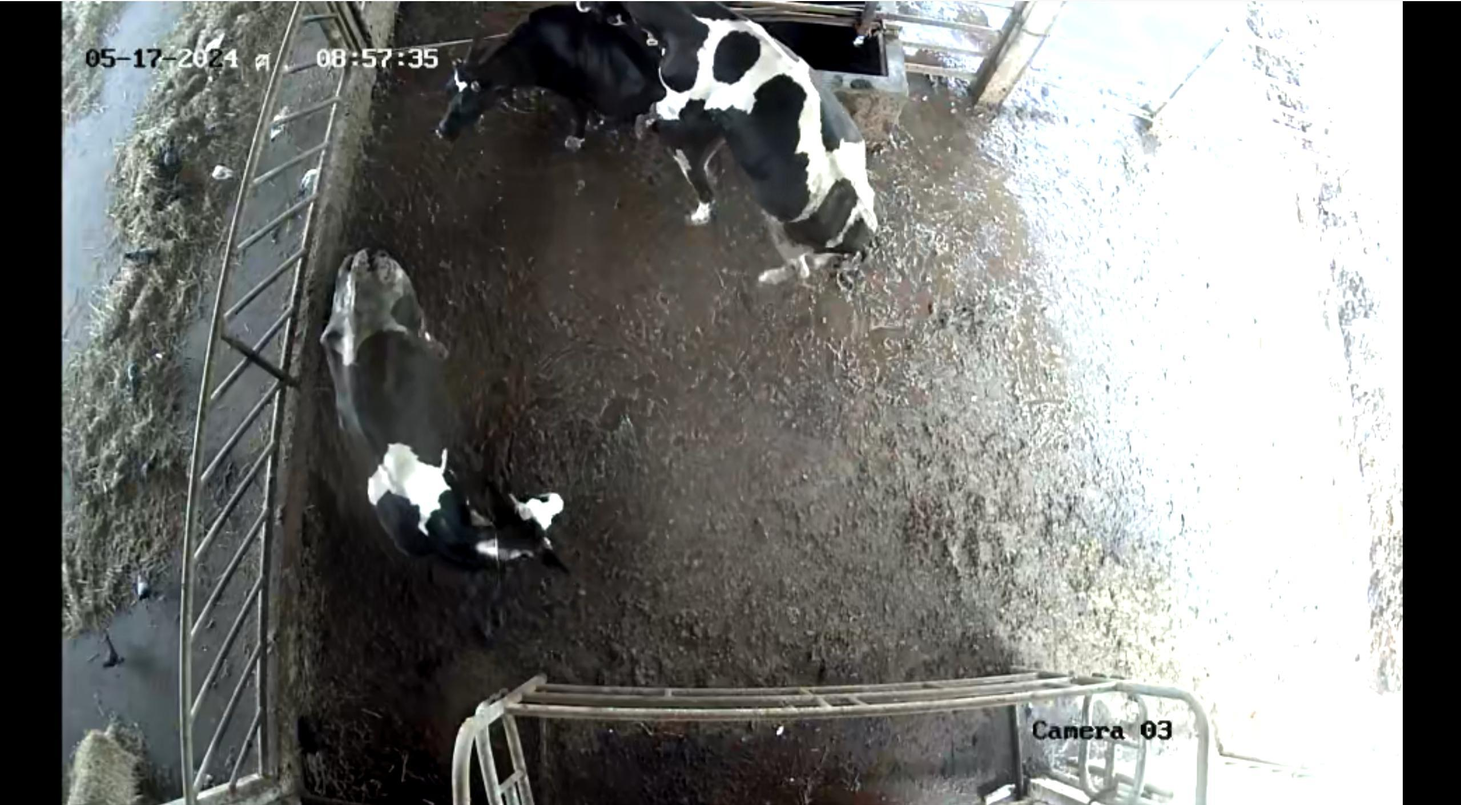ride: (577, 1, 885, 306)
stand: (313, 224, 566, 602), (432, 10, 670, 179)
